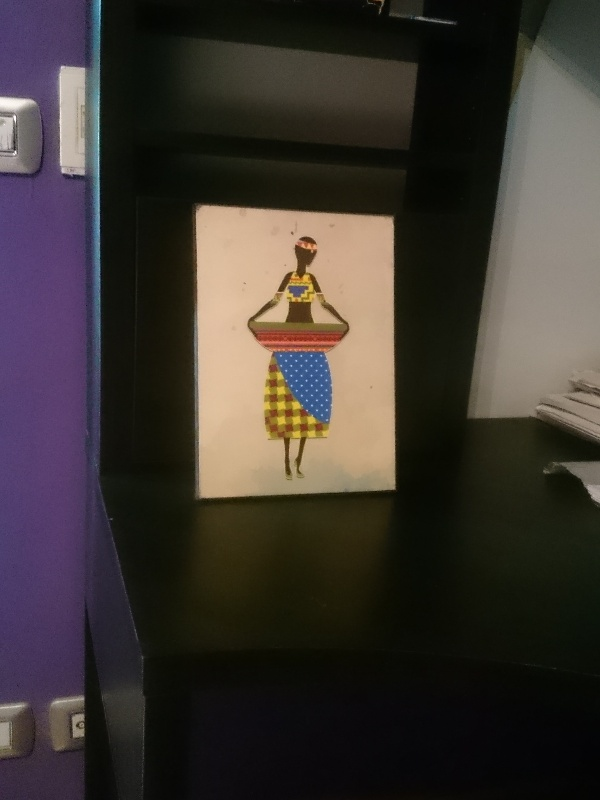my image: (194, 211, 395, 496)
